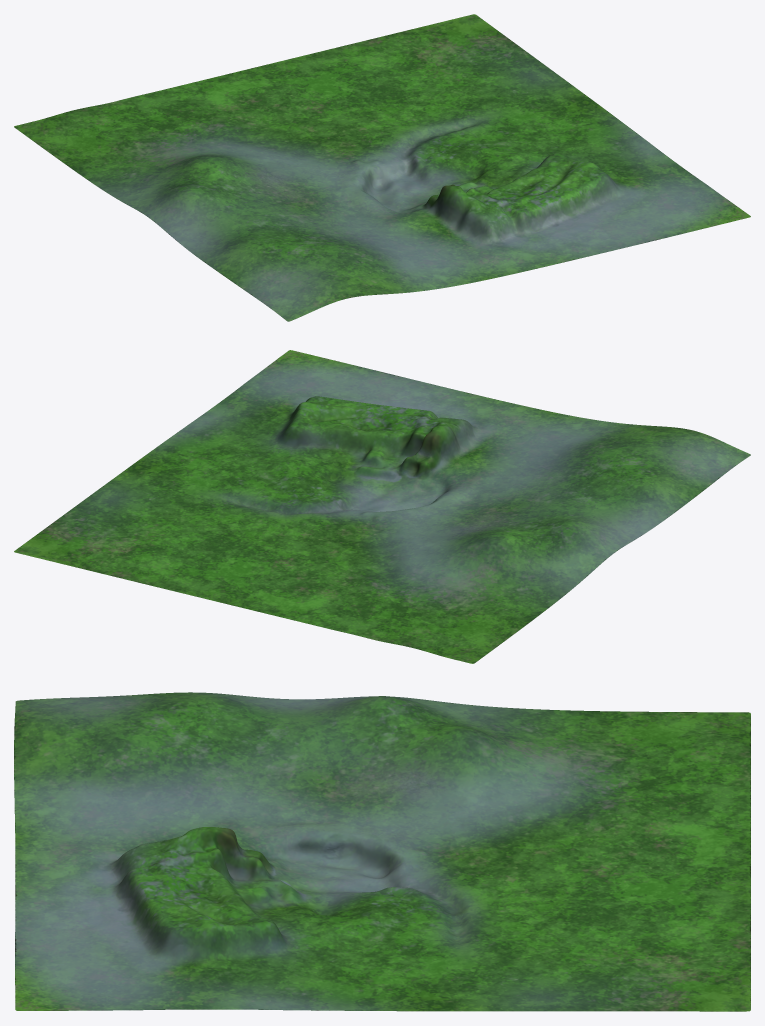
File: Terrain 1.fbx
3 views of the same model, one above another, from view 1: azimuth 30°, elevation 25°; view 2: azimuth 150°, elevation 25°; view 3: azimuth 270°, elevation 25° (orthographic). The views are drawn at different scales.
Parts seen in each view (by area): view 1: Terrain_0327; view 2: Terrain_0327; view 3: Terrain_0327.
Boxes of the visible parts, x1,y1,x2,y2 form: Terrain_0327: (14,14,750,321); Terrain_0327: (14,350,750,663); Terrain_0327: (14,692,750,1011).
Size of the model in its own units: 955346 by 84524 by 980139.
